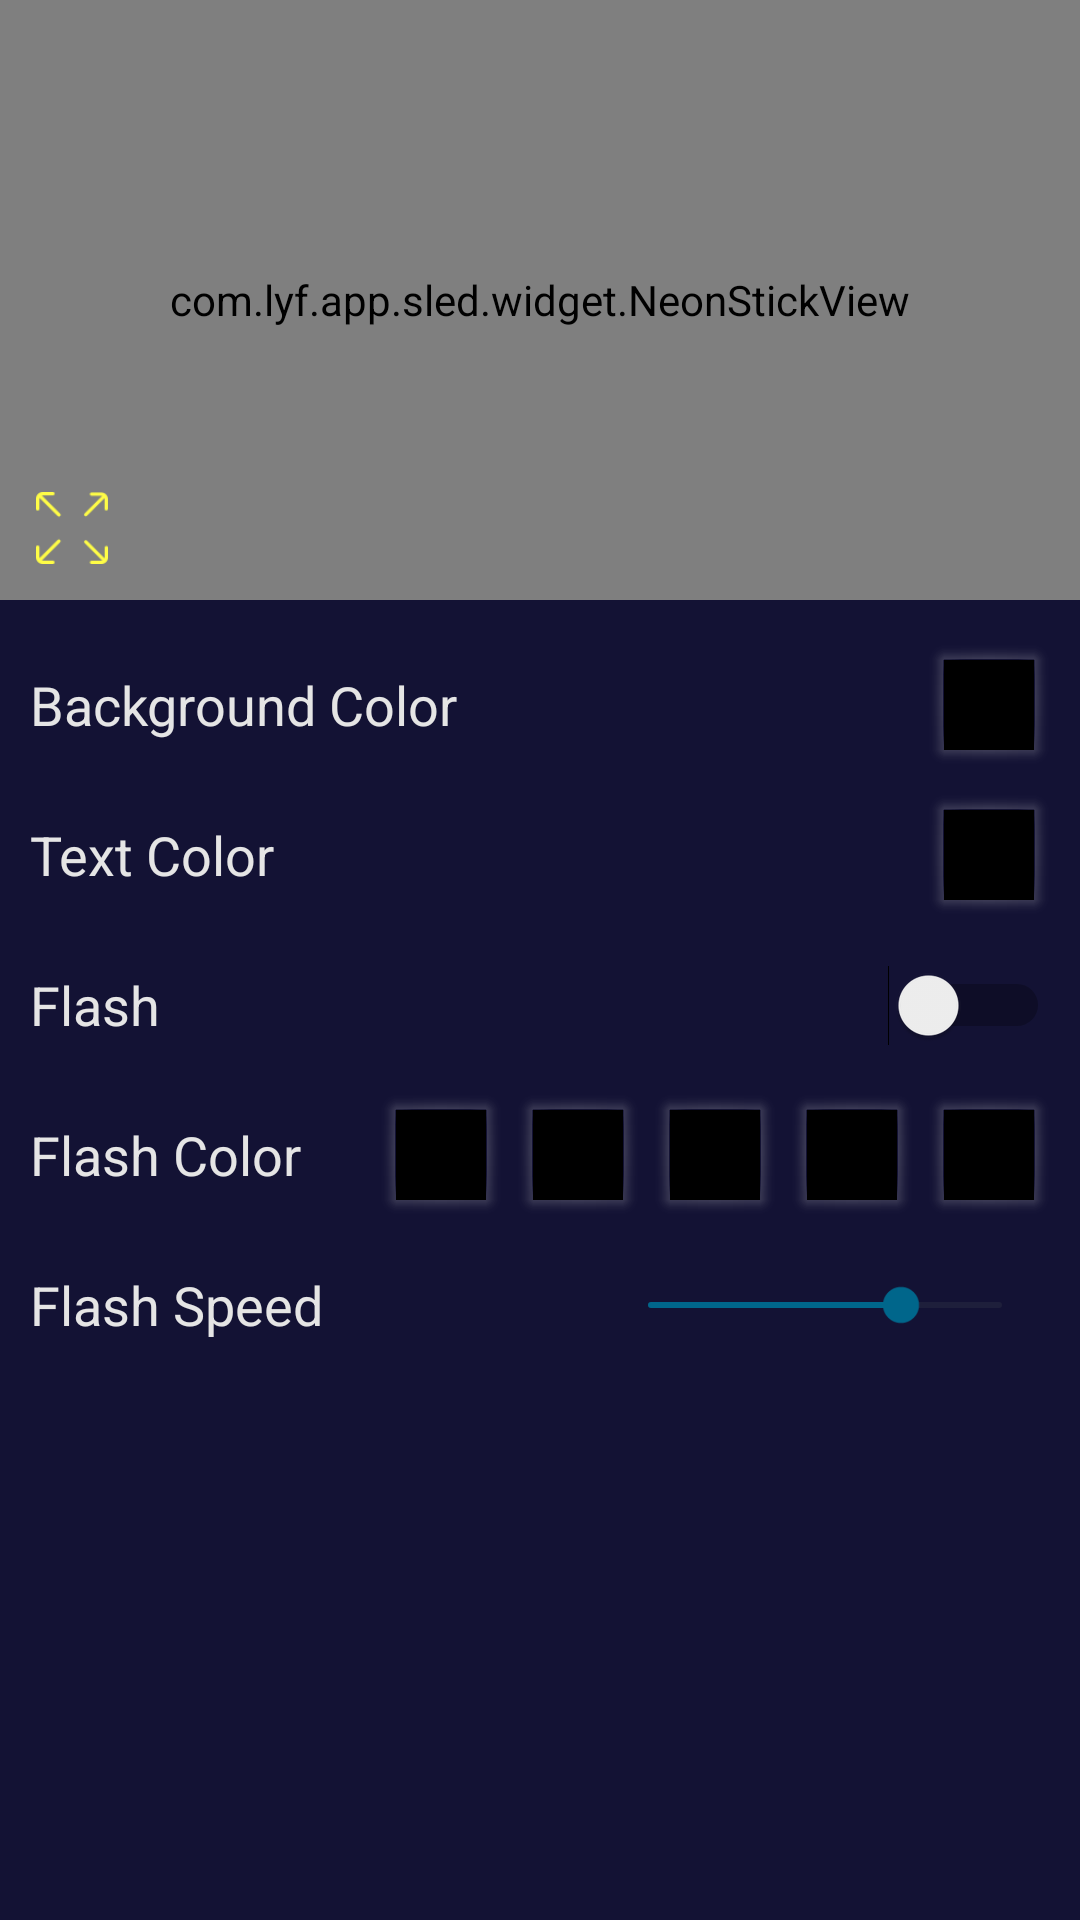

Point at icon controls on the screen. Image size 1080x1920, points as point (x, y).
fullscreen: point (72, 528)
